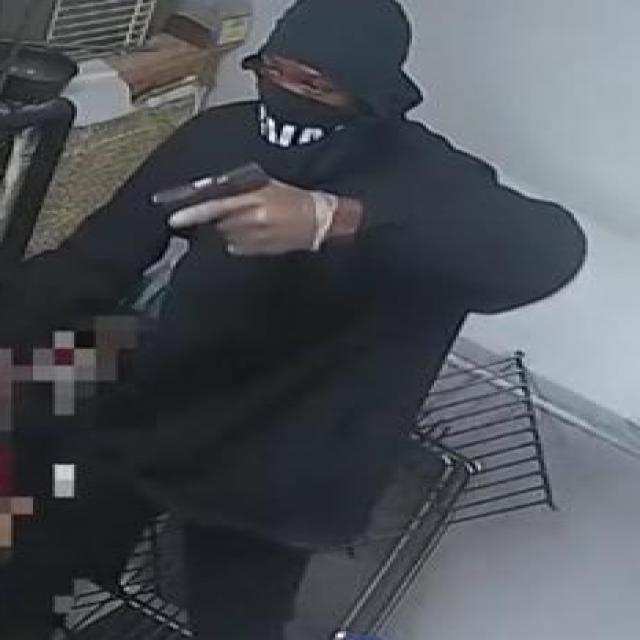Gun: (143, 156, 316, 257)
